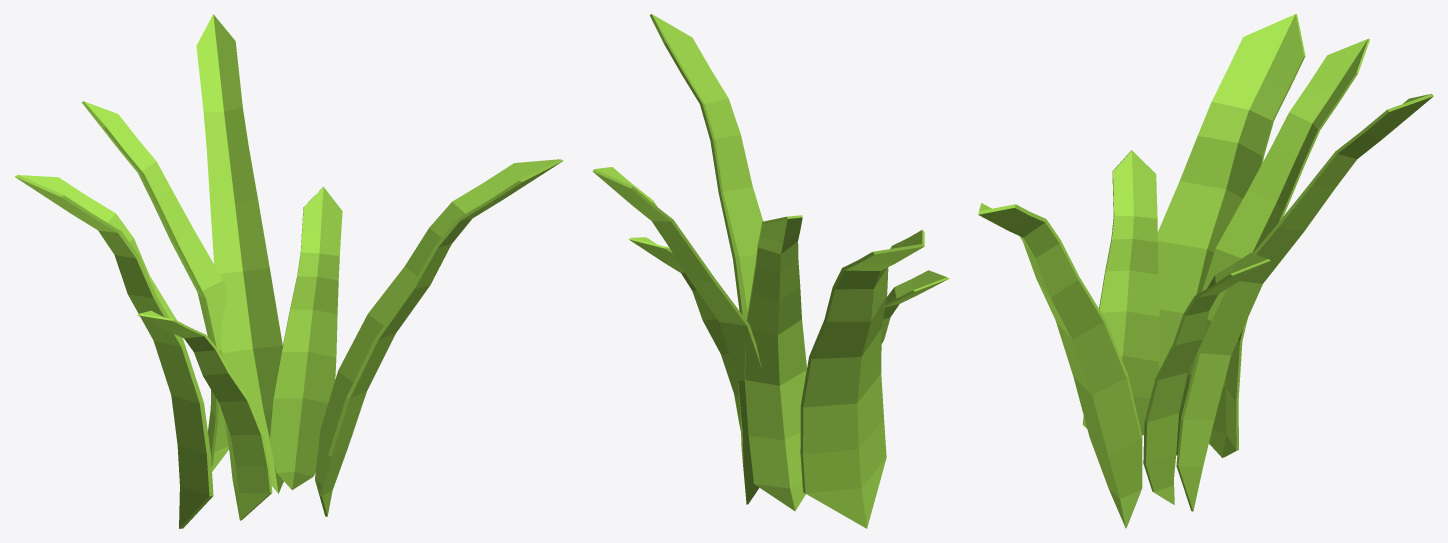
The model's file is SmallpatchLight.fbx.
3 views of the same model, side by side, from view 1: azimuth 30°, elevation 25°; view 2: azimuth 150°, elevation 25°; view 3: azimuth 270°, elevation 25° (orthographic). The views are drawn at different scales.
Visible parts, largest first — view 1: Light small patch; view 2: Light small patch; view 3: Light small patch.
Boxes of the visible parts, left/top/right/bottom form: Light small patch: left=14, top=14, right=563, bottom=528; Light small patch: left=592, top=14, right=949, bottom=528; Light small patch: left=978, top=14, right=1433, bottom=528.
Size of the model in its own units: 142 by 164 by 153.
